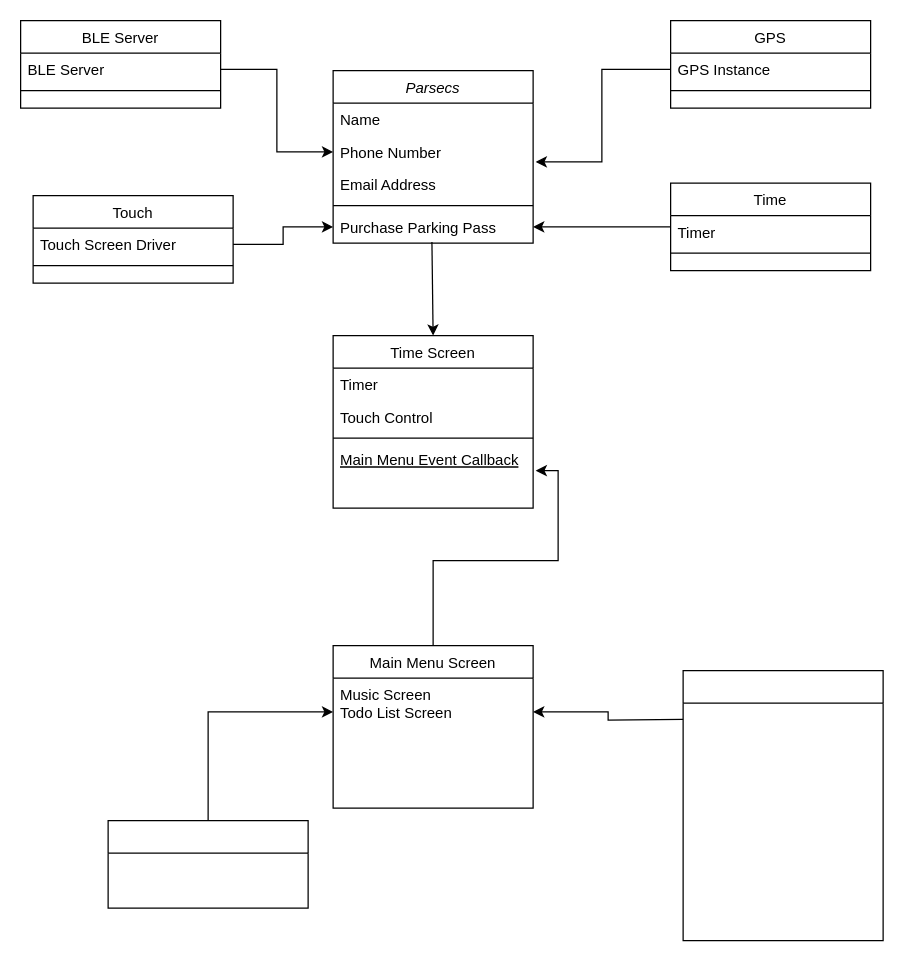
The diagram is 904 pixels wide and 961 high, and some of its shapes have lost their labels. The shapes that lost their labels are listed below. From the top down, each one's centre as x and y in pixels, then its label:
(782,805): Todo List Screen
(207,863): Music Screen
